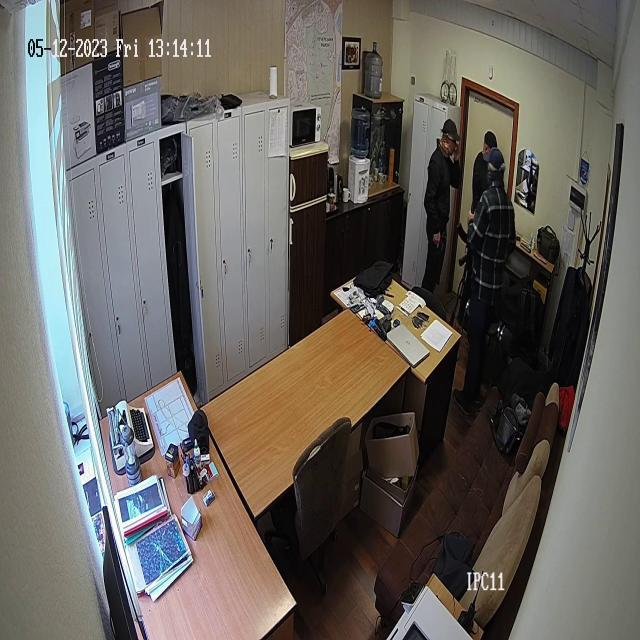pistol: (457, 184, 480, 310), (432, 223, 448, 293)
